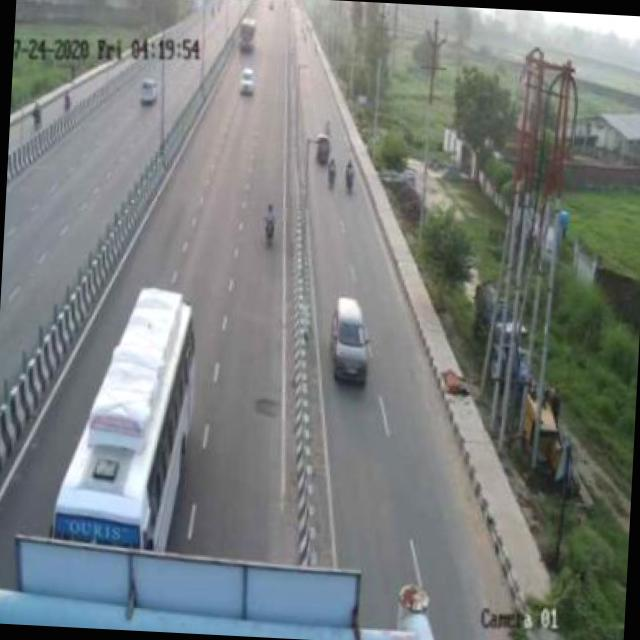car: (324, 281, 379, 388)
